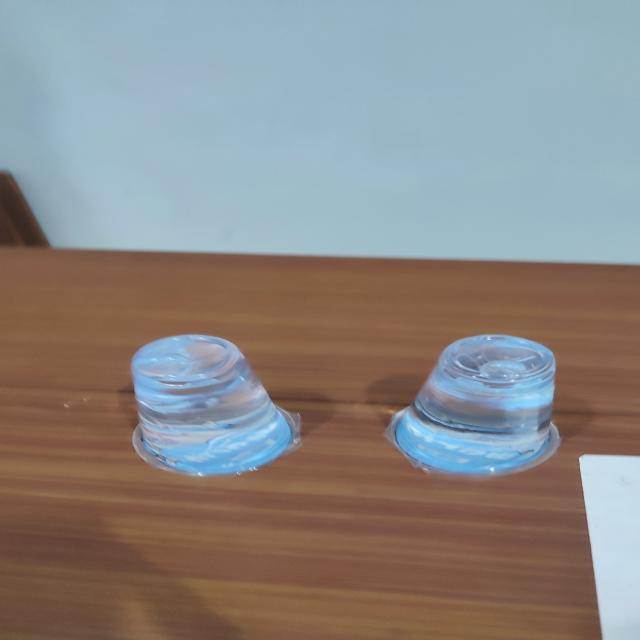air gelas: (381, 324, 576, 483), (117, 331, 312, 481)
